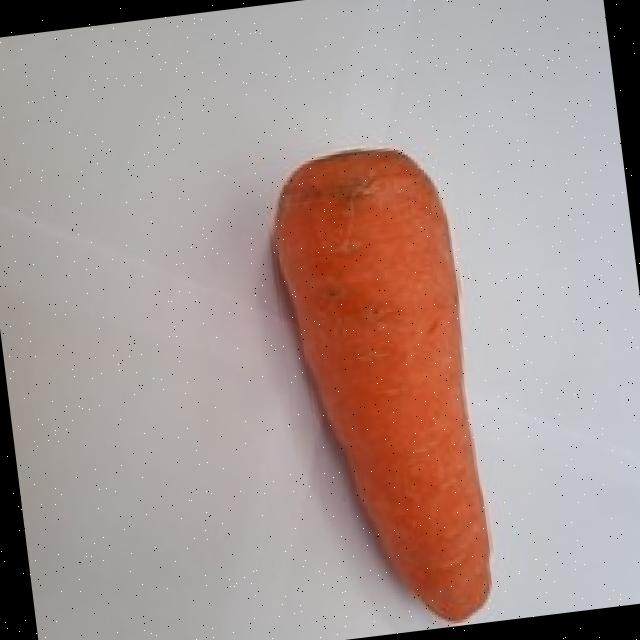carrot: (281, 145, 493, 615)
